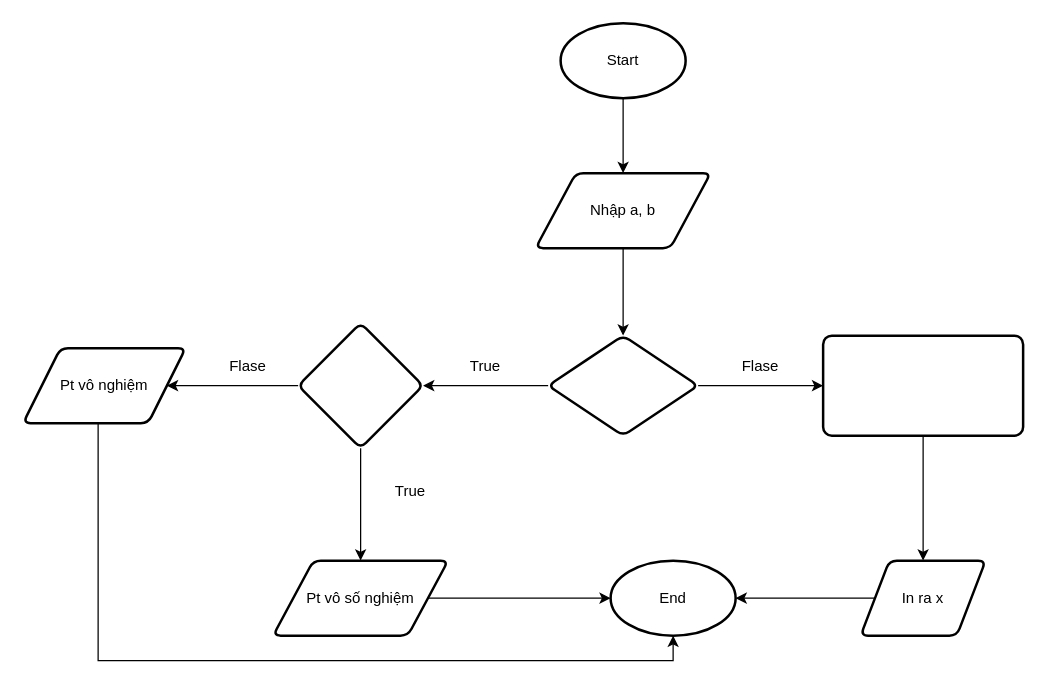
Image size: 1045x693. Some labels were removed from this diagram. Each missing label, with the centre of its shape:
"a = 0 ?" belongs at (622,385).
"b = 0 ?" belongs at (360,385).
"x = -b / a" belongs at (922,385).
